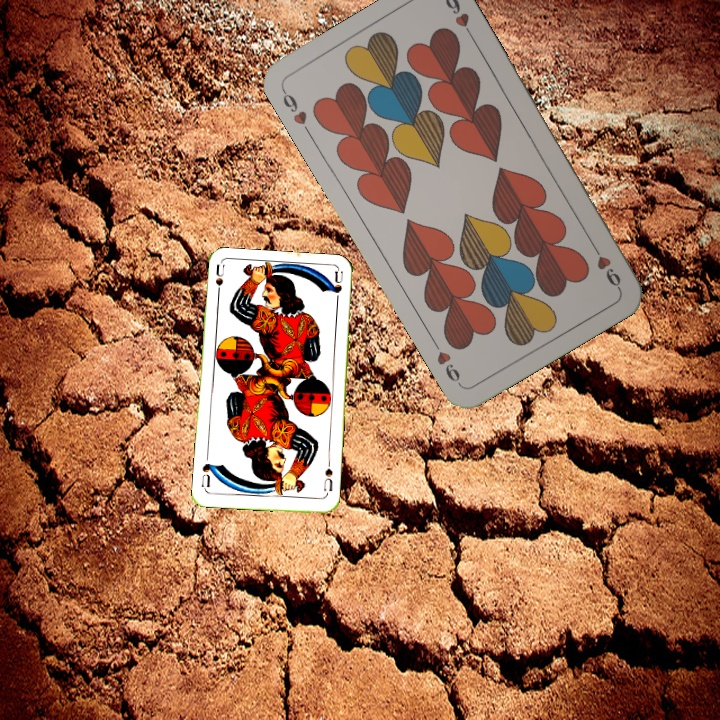H9: (587, 238, 624, 292), (278, 85, 310, 128)
SU: (212, 262, 226, 302), (320, 464, 335, 498)
